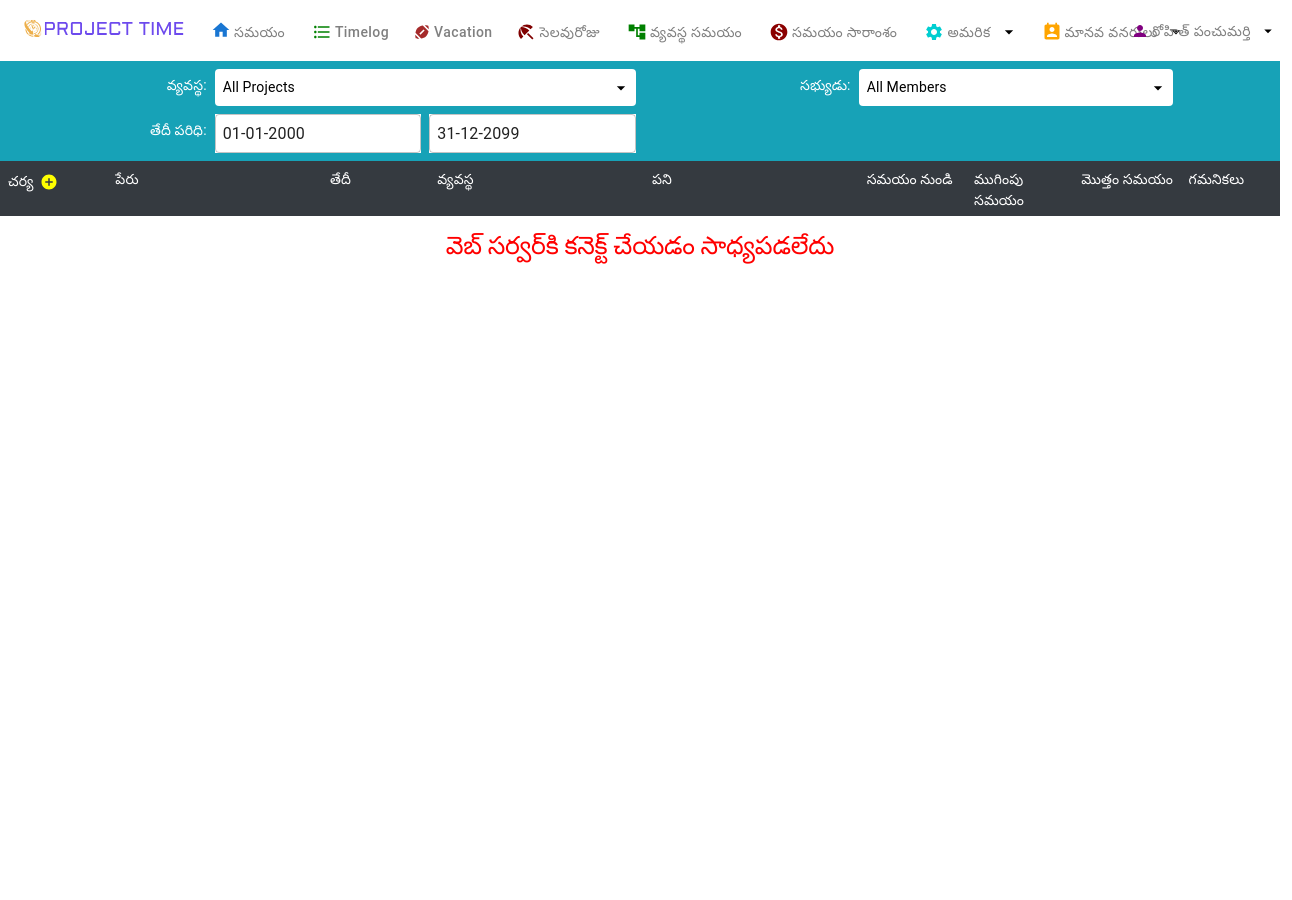
Test case: 11. Switch the browser language to your primary language and verify the detail page shows in primary language.
The image size is (1292, 900).
Click the button with test id "Action". click: (69,182)
box: [37,169,101,195]
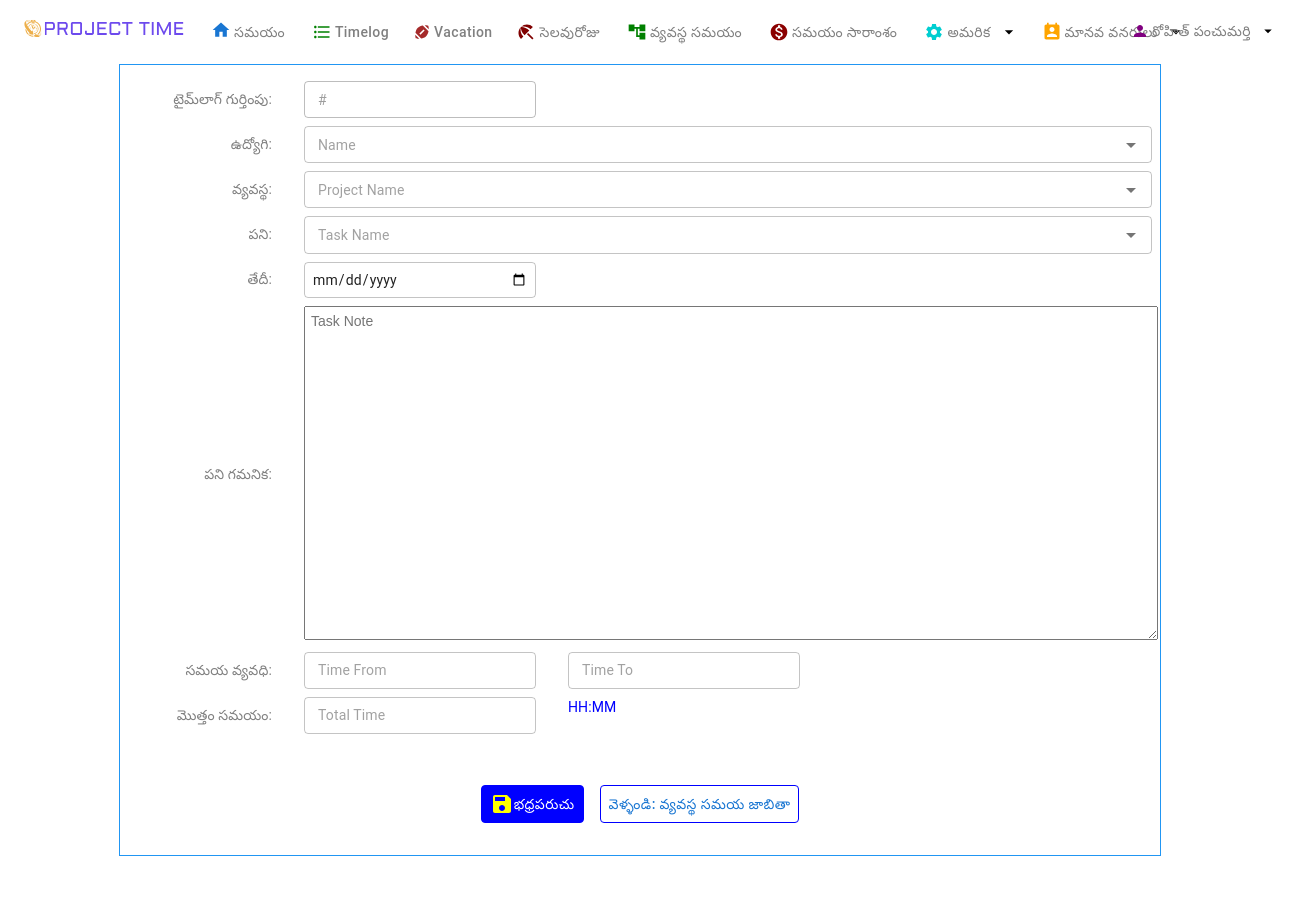
Expected: the button with test id "Save" is shown, [481,785,584,823]
